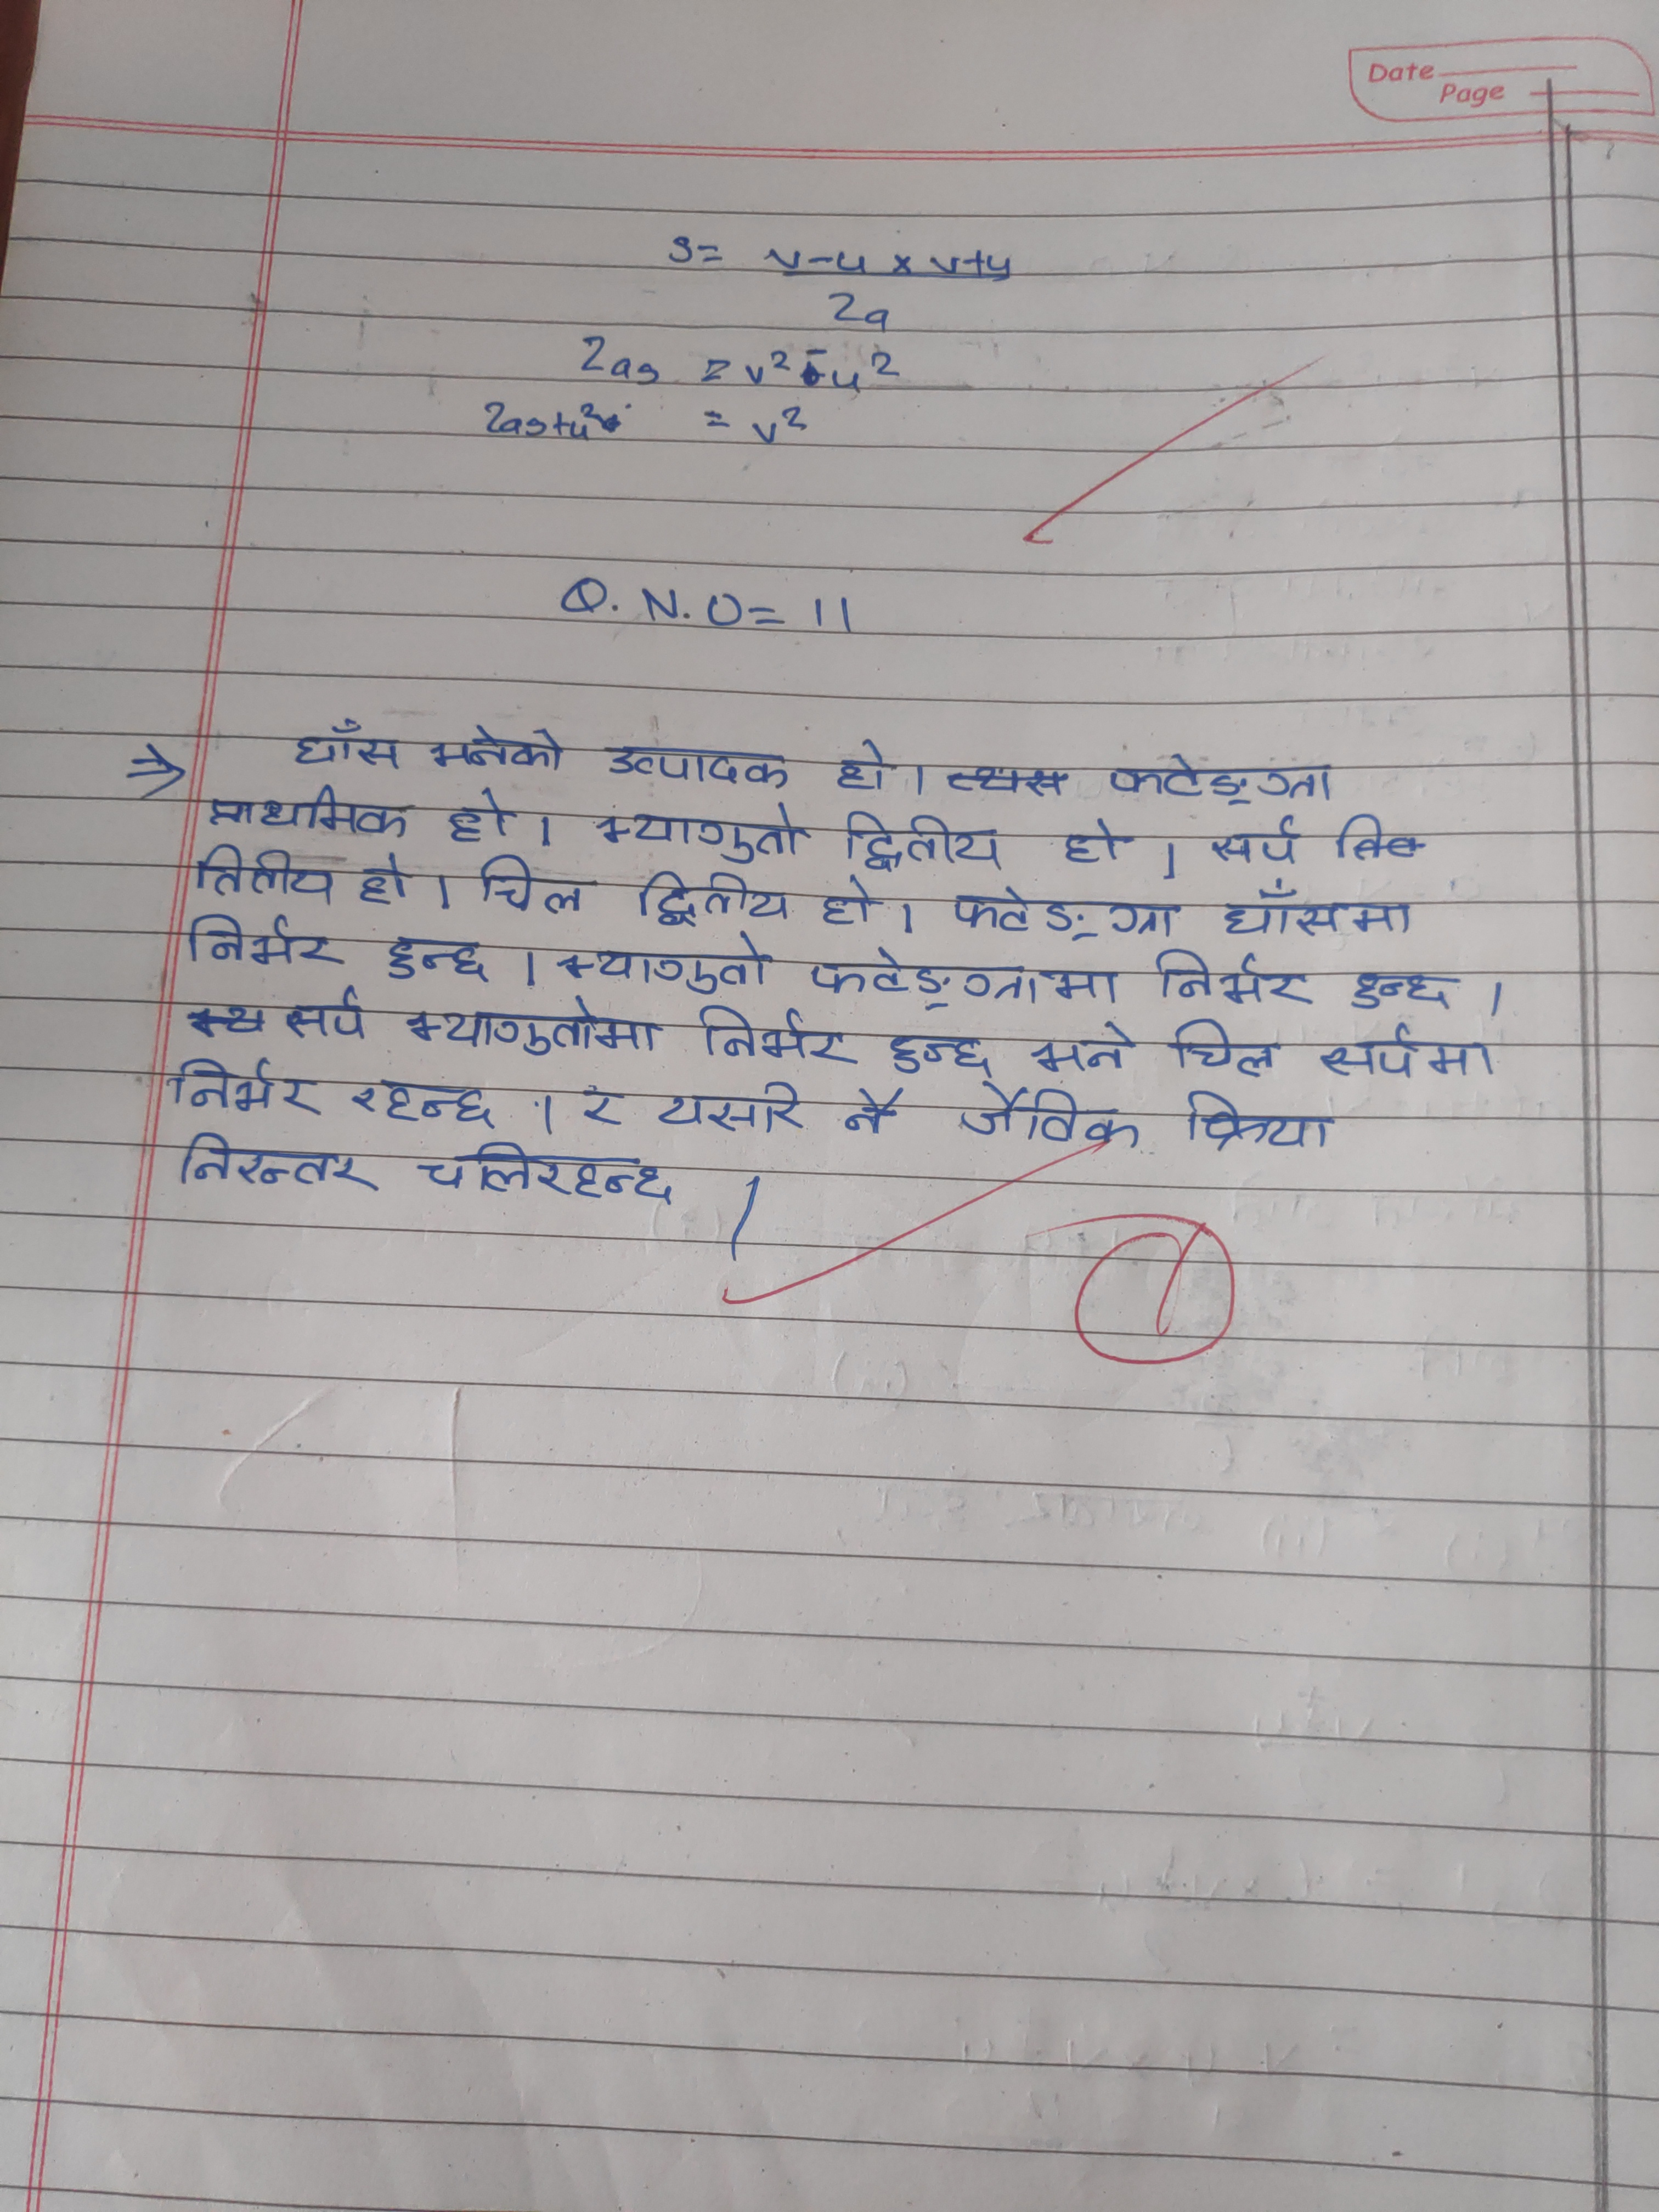text: (807, 946, 1124, 1014), (413, 1136, 688, 1209), (542, 927, 775, 998), (406, 1001, 666, 1062), (958, 1075, 1143, 1158), (173, 1129, 392, 1197), (1100, 747, 1335, 810), (591, 806, 817, 867), (835, 805, 1007, 880), (1314, 1019, 1502, 1087), (596, 733, 788, 796), (202, 786, 410, 841), (1178, 1087, 1338, 1158), (179, 902, 342, 970), (694, 1003, 857, 1068), (1148, 939, 1307, 1001), (167, 1049, 312, 1116), (657, 1078, 810, 1137), (1171, 1007, 1286, 1080), (342, 1073, 493, 1127), (427, 721, 572, 775), (289, 714, 404, 773), (1028, 1017, 1138, 1078), (1338, 963, 1459, 1017), (378, 935, 491, 989), (279, 984, 371, 1050), (880, 1031, 999, 1082), (1202, 812, 1305, 869), (439, 782, 511, 848), (1053, 810, 1126, 874), (840, 1085, 910, 1141), (833, 737, 890, 794), (565, 1080, 629, 1129)
